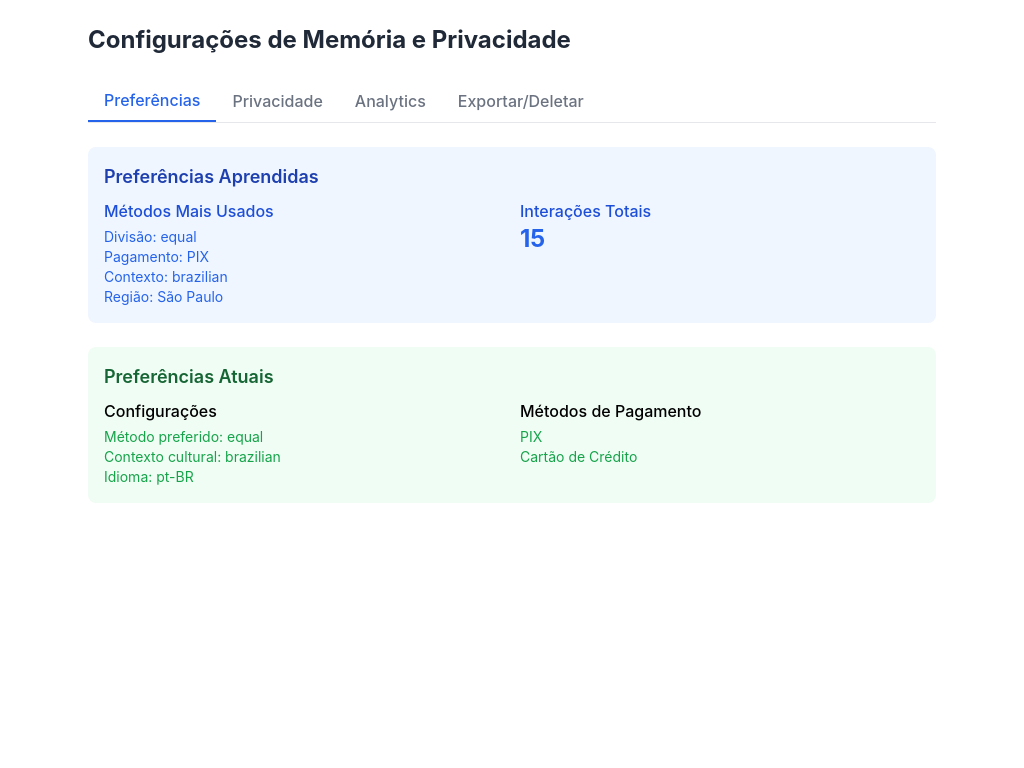
Test: MemoryContextUI Component - Story 6 › Acceptance Criteria Tests › should manage user consent clearly
Step 1. Click the button "Privacidade" → (278, 101), box [216,80,339,122]
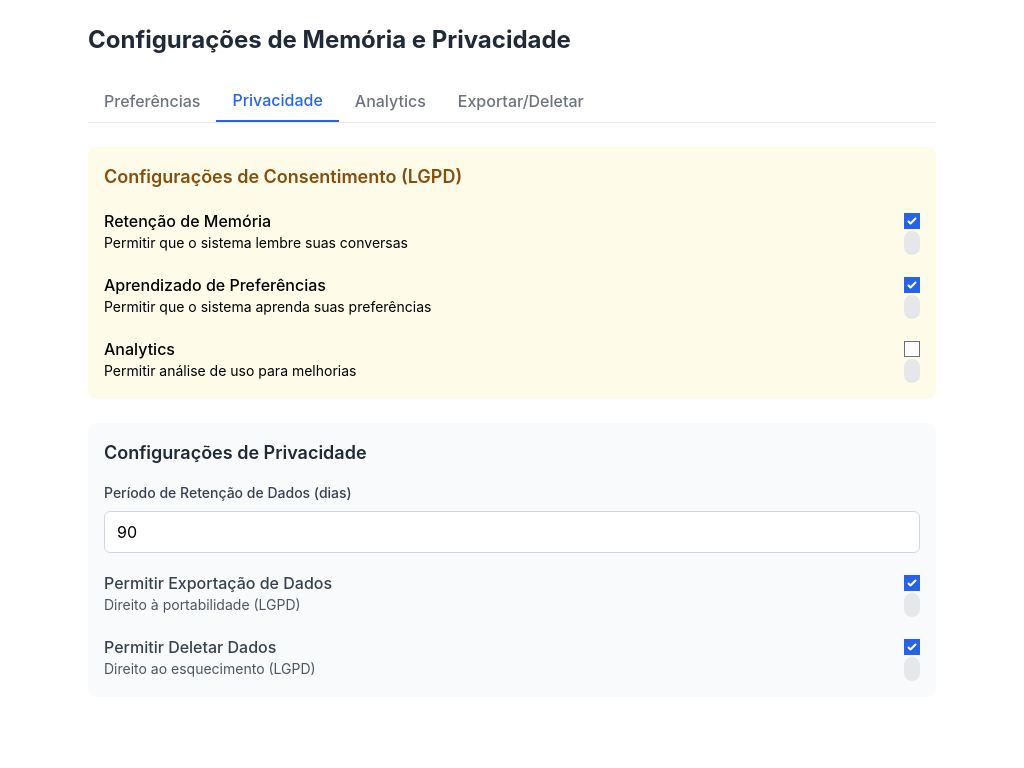
Result: the heading "Configurações de Consentimento (LGPD)" is shown at [104,166,462,187]
Result: the heading "Retenção de Memória" is shown at [104,211,271,231]
Result: the heading "Aprendizado de Preferências" is shown at [104,275,326,295]
